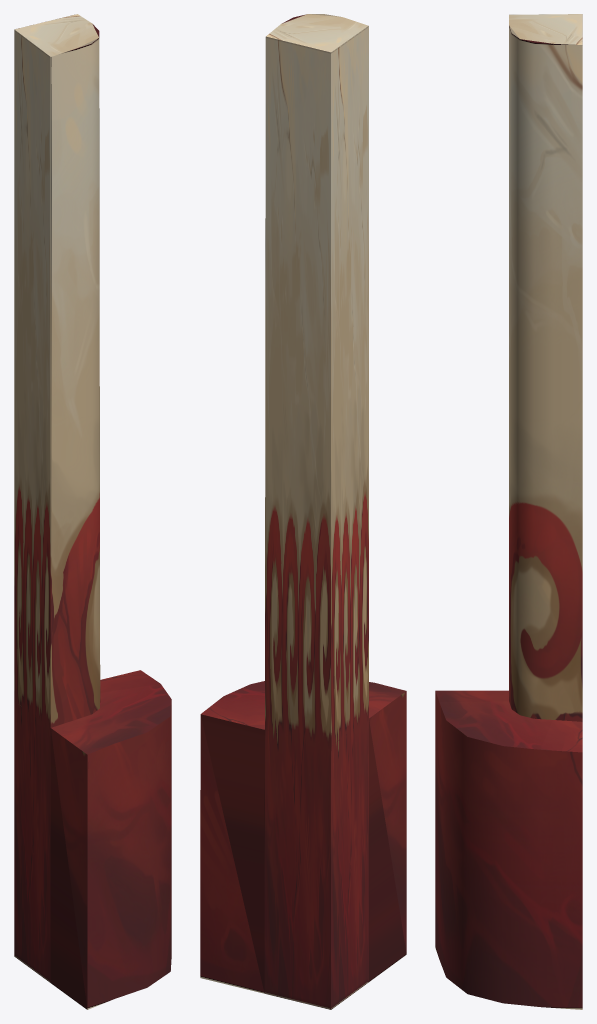
Rendered from Modulaire_Coin.fbx.
3 views of the same model, side by side, from view 1: azimuth 30°, elevation 25°; view 2: azimuth 150°, elevation 25°; view 3: azimuth 270°, elevation 25° (orthographic). The views are drawn at different scales.
Visible parts, largest first — view 1: Box013; view 2: Box013; view 3: Box013.
Boxes of the visible parts, bbox=[...] form: Box013: bbox=[14, 14, 171, 1009]; Box013: bbox=[200, 14, 406, 1009]; Box013: bbox=[435, 14, 582, 1009].
Bounding box in the file's own units: 0.25 × 1.75 × 0.25.
